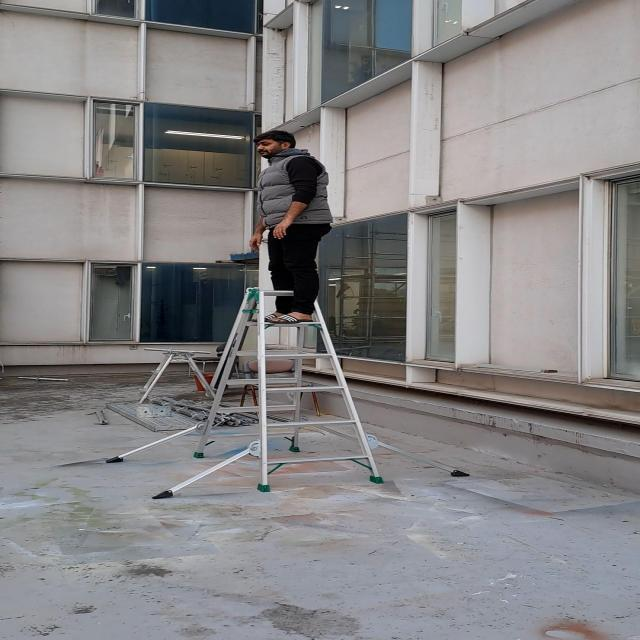boots: (99, 286, 473, 502)
vest: (239, 128, 341, 328)
